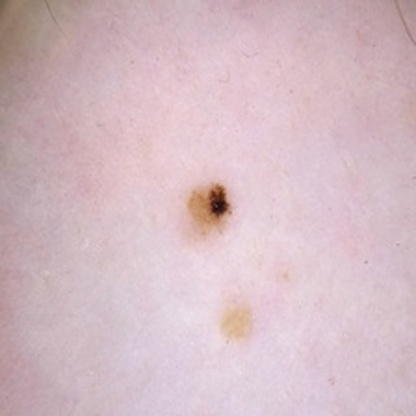malignant: (180, 182, 237, 228)
